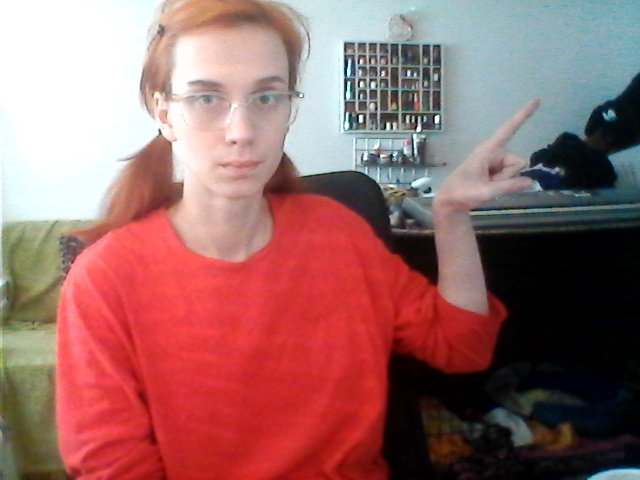on: (410, 92, 561, 373)
